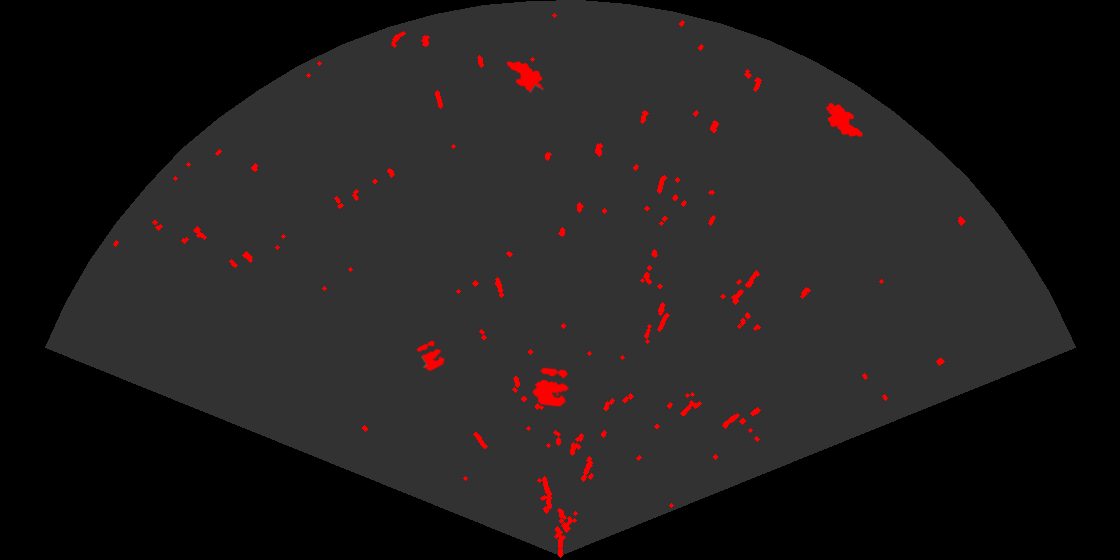AUV: (824, 101, 864, 139), (505, 60, 545, 94)
ball: (531, 366, 571, 408), (415, 339, 447, 373)
